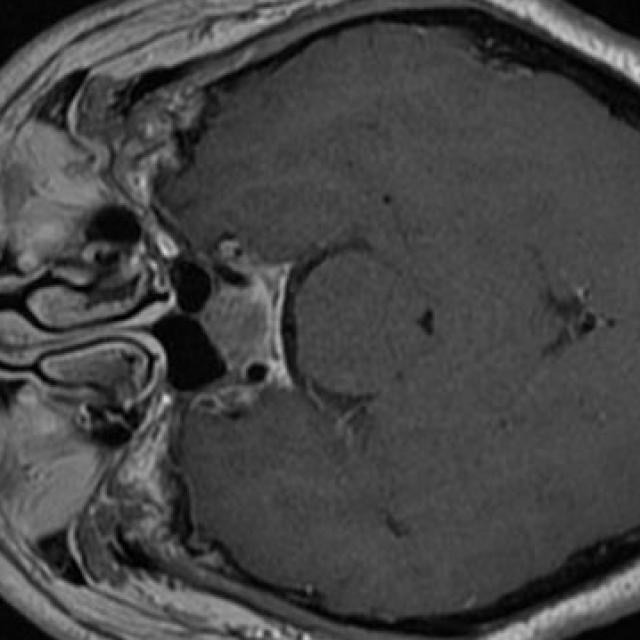pituitary: (198, 287, 276, 369)
